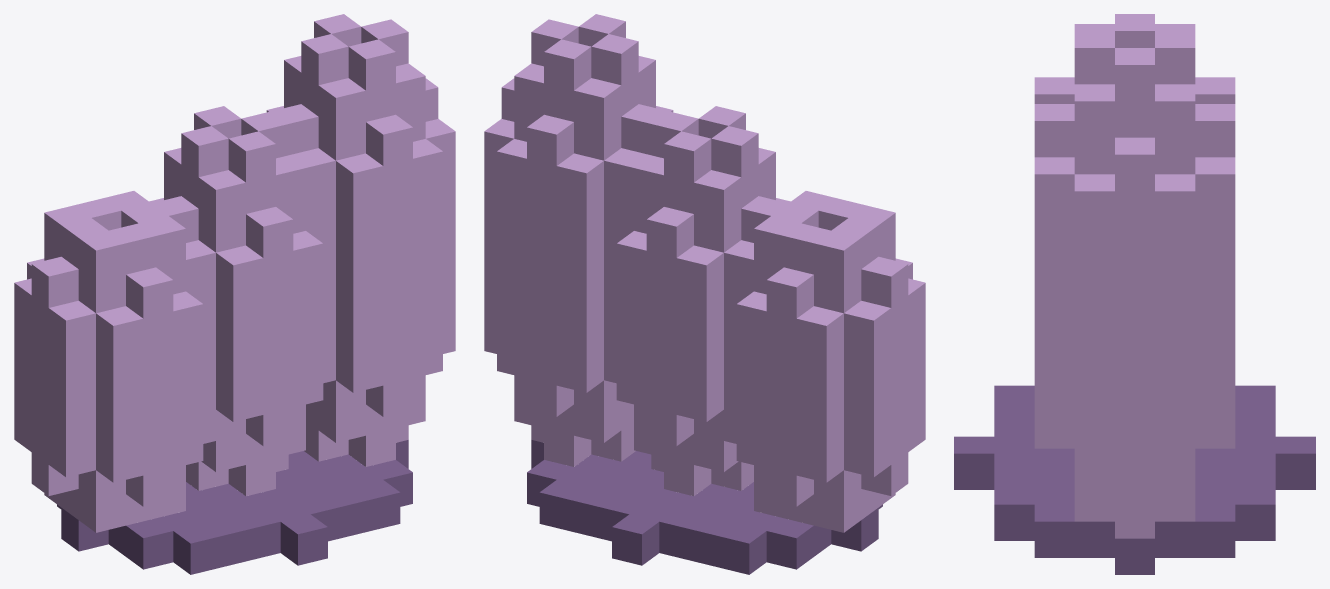
File: alien-biosphere-spore-towers-c1c80893__22729.glb
3 renders of one model, left to right at view 1: azimuth 30°, elevation 25°; view 2: azimuth 150°, elevation 25°; view 3: azimuth 270°, elevation 25°, orthographic. The views are drawn at different scales.
Visible parts, largest first — view 1: spore-towers; view 2: spore-towers; view 3: spore-towers.
Part boxes in pixels (x1,y1,x2,y2): spore-towers: (14,14,455,574); spore-towers: (484,14,925,574); spore-towers: (954,14,1315,574).
Bounding box in the file's own units: 1.82 × 2.1 × 1.26.
